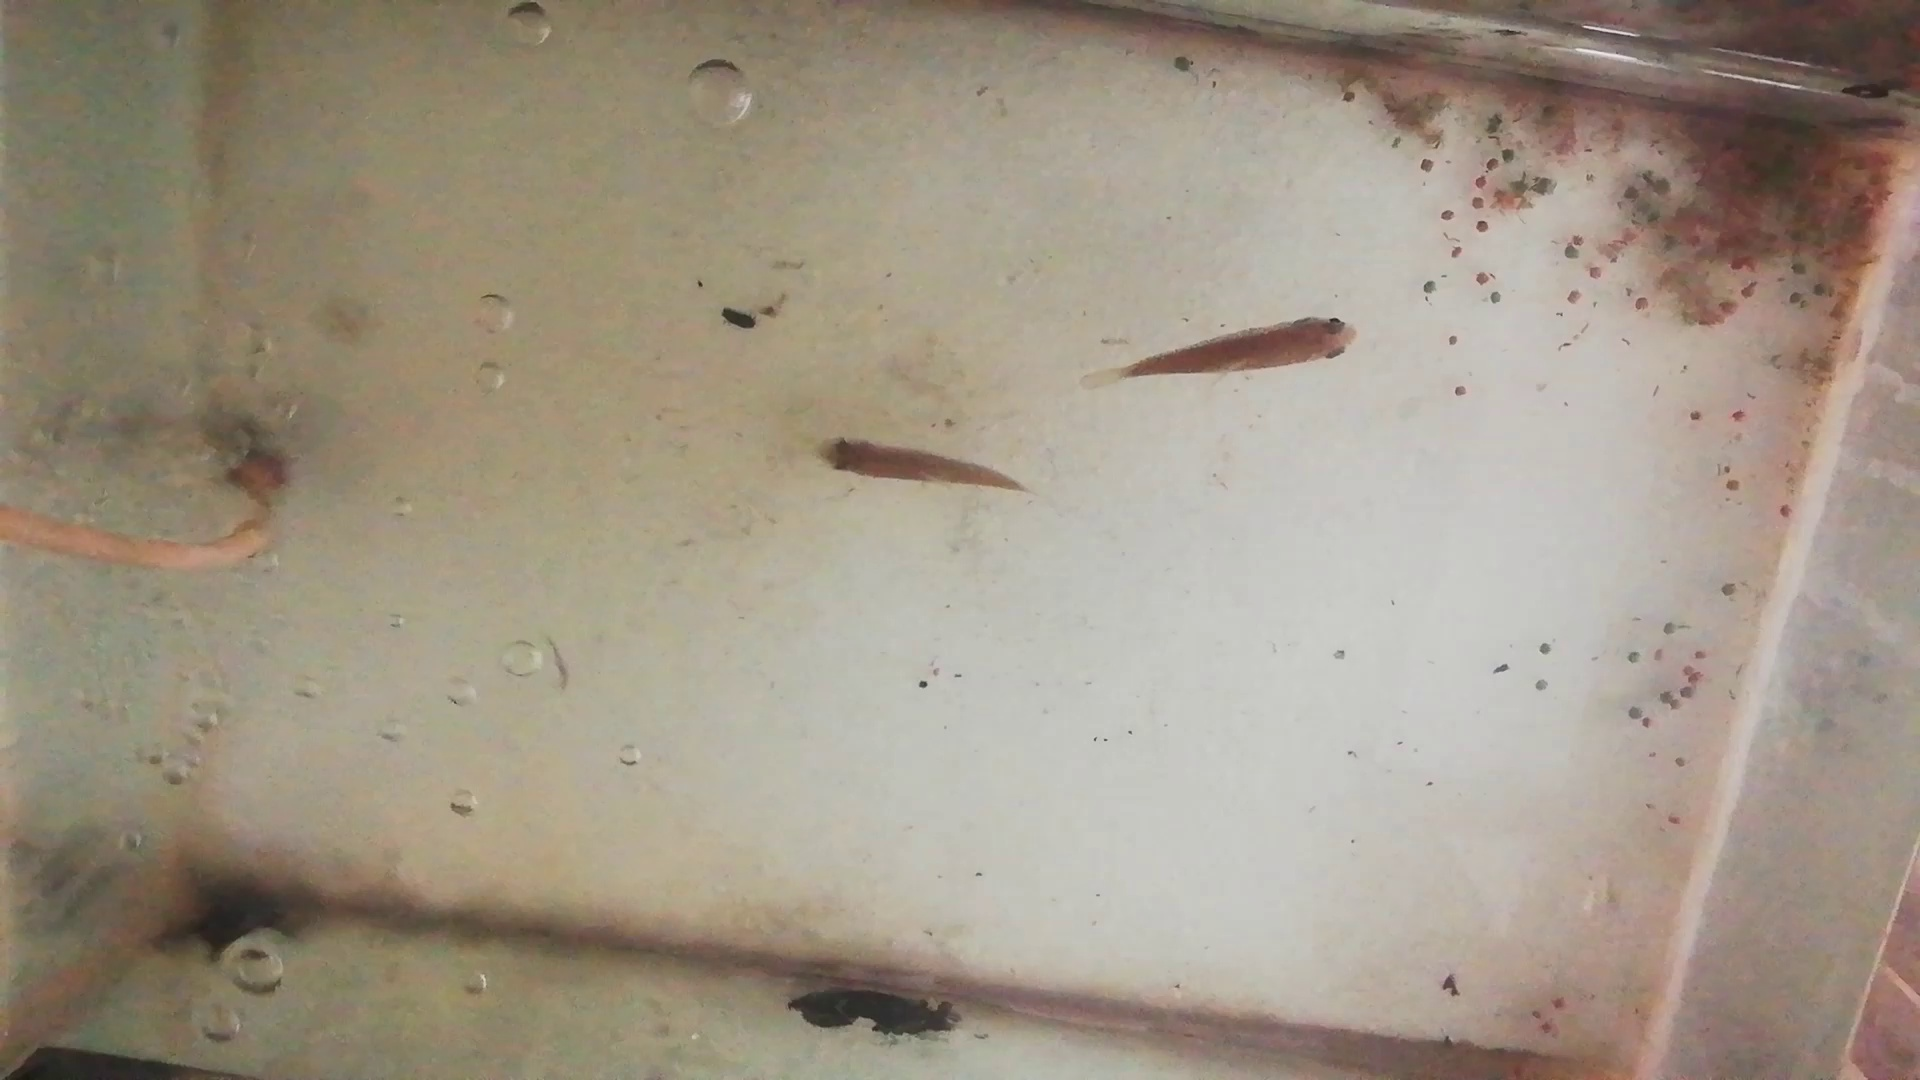fish: (1121, 319, 1357, 382), (815, 434, 1021, 502)
